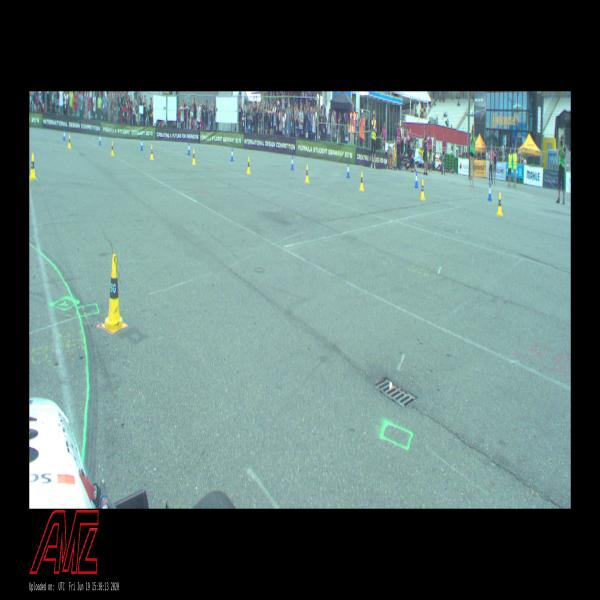blue_cone: (140, 138, 144, 151), (488, 183, 491, 200), (415, 172, 418, 188), (291, 156, 294, 169), (347, 162, 349, 178), (231, 147, 233, 161), (188, 143, 190, 154), (99, 134, 101, 145), (63, 130, 65, 140)
yellow_cone: (102, 255, 126, 330), (30, 154, 36, 179), (497, 193, 502, 215), (420, 180, 425, 200), (305, 165, 309, 183), (360, 172, 364, 190), (192, 149, 196, 165), (150, 145, 154, 160), (110, 142, 114, 155), (247, 157, 250, 174), (68, 136, 71, 148)
